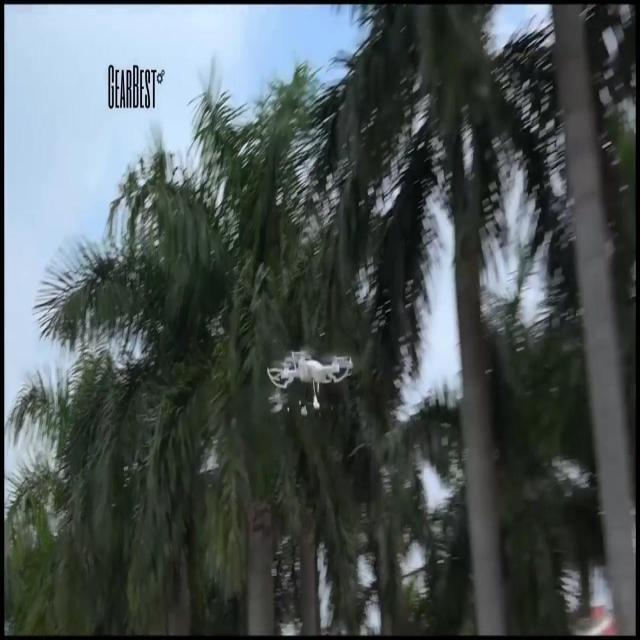drone: (267, 346, 353, 414)
